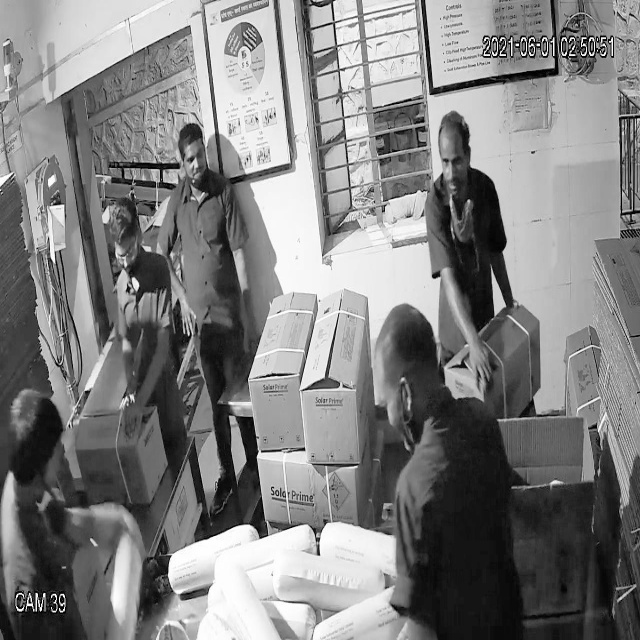Gafas: (109, 231, 148, 274)
Sin_gafas: (435, 145, 472, 180), (178, 145, 211, 172)
